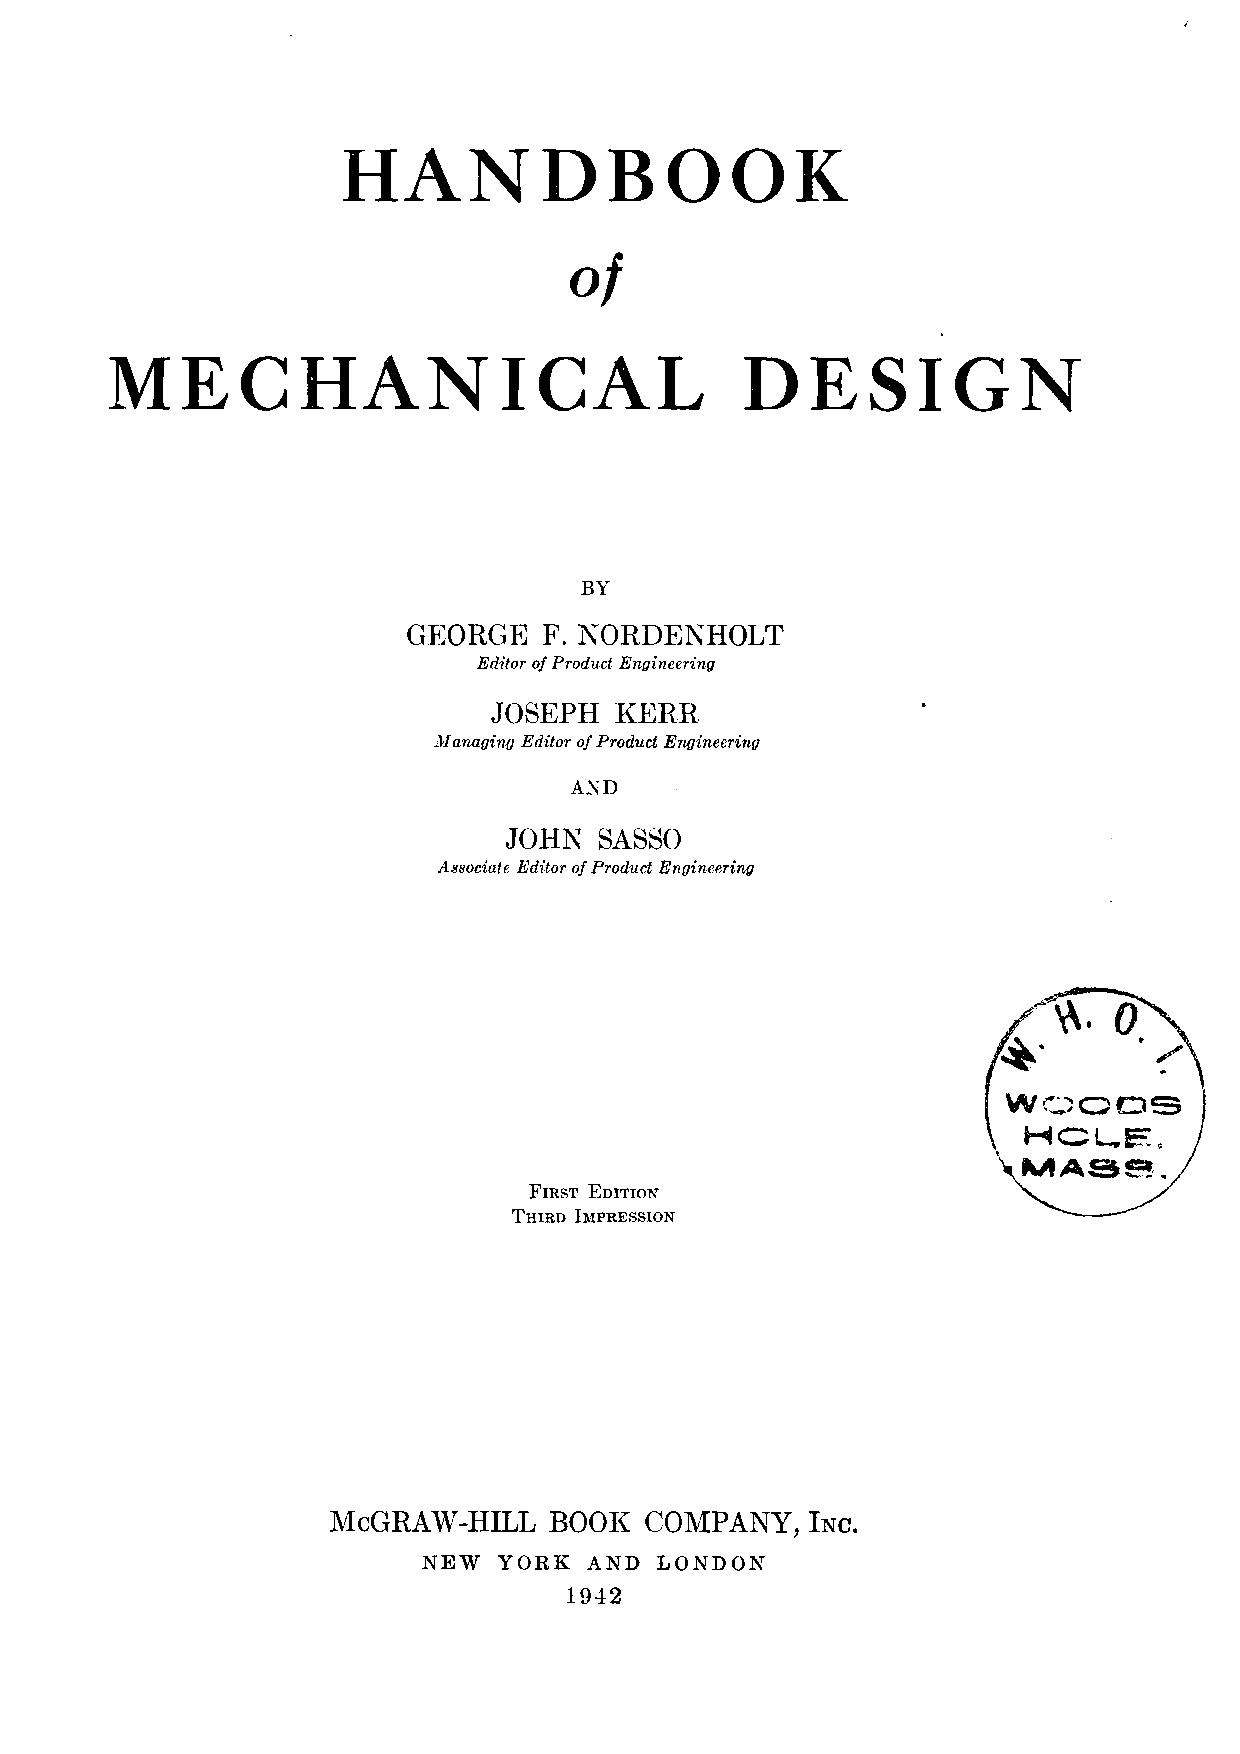author: (403, 576, 786, 878)
title: (103, 146, 1084, 412)
